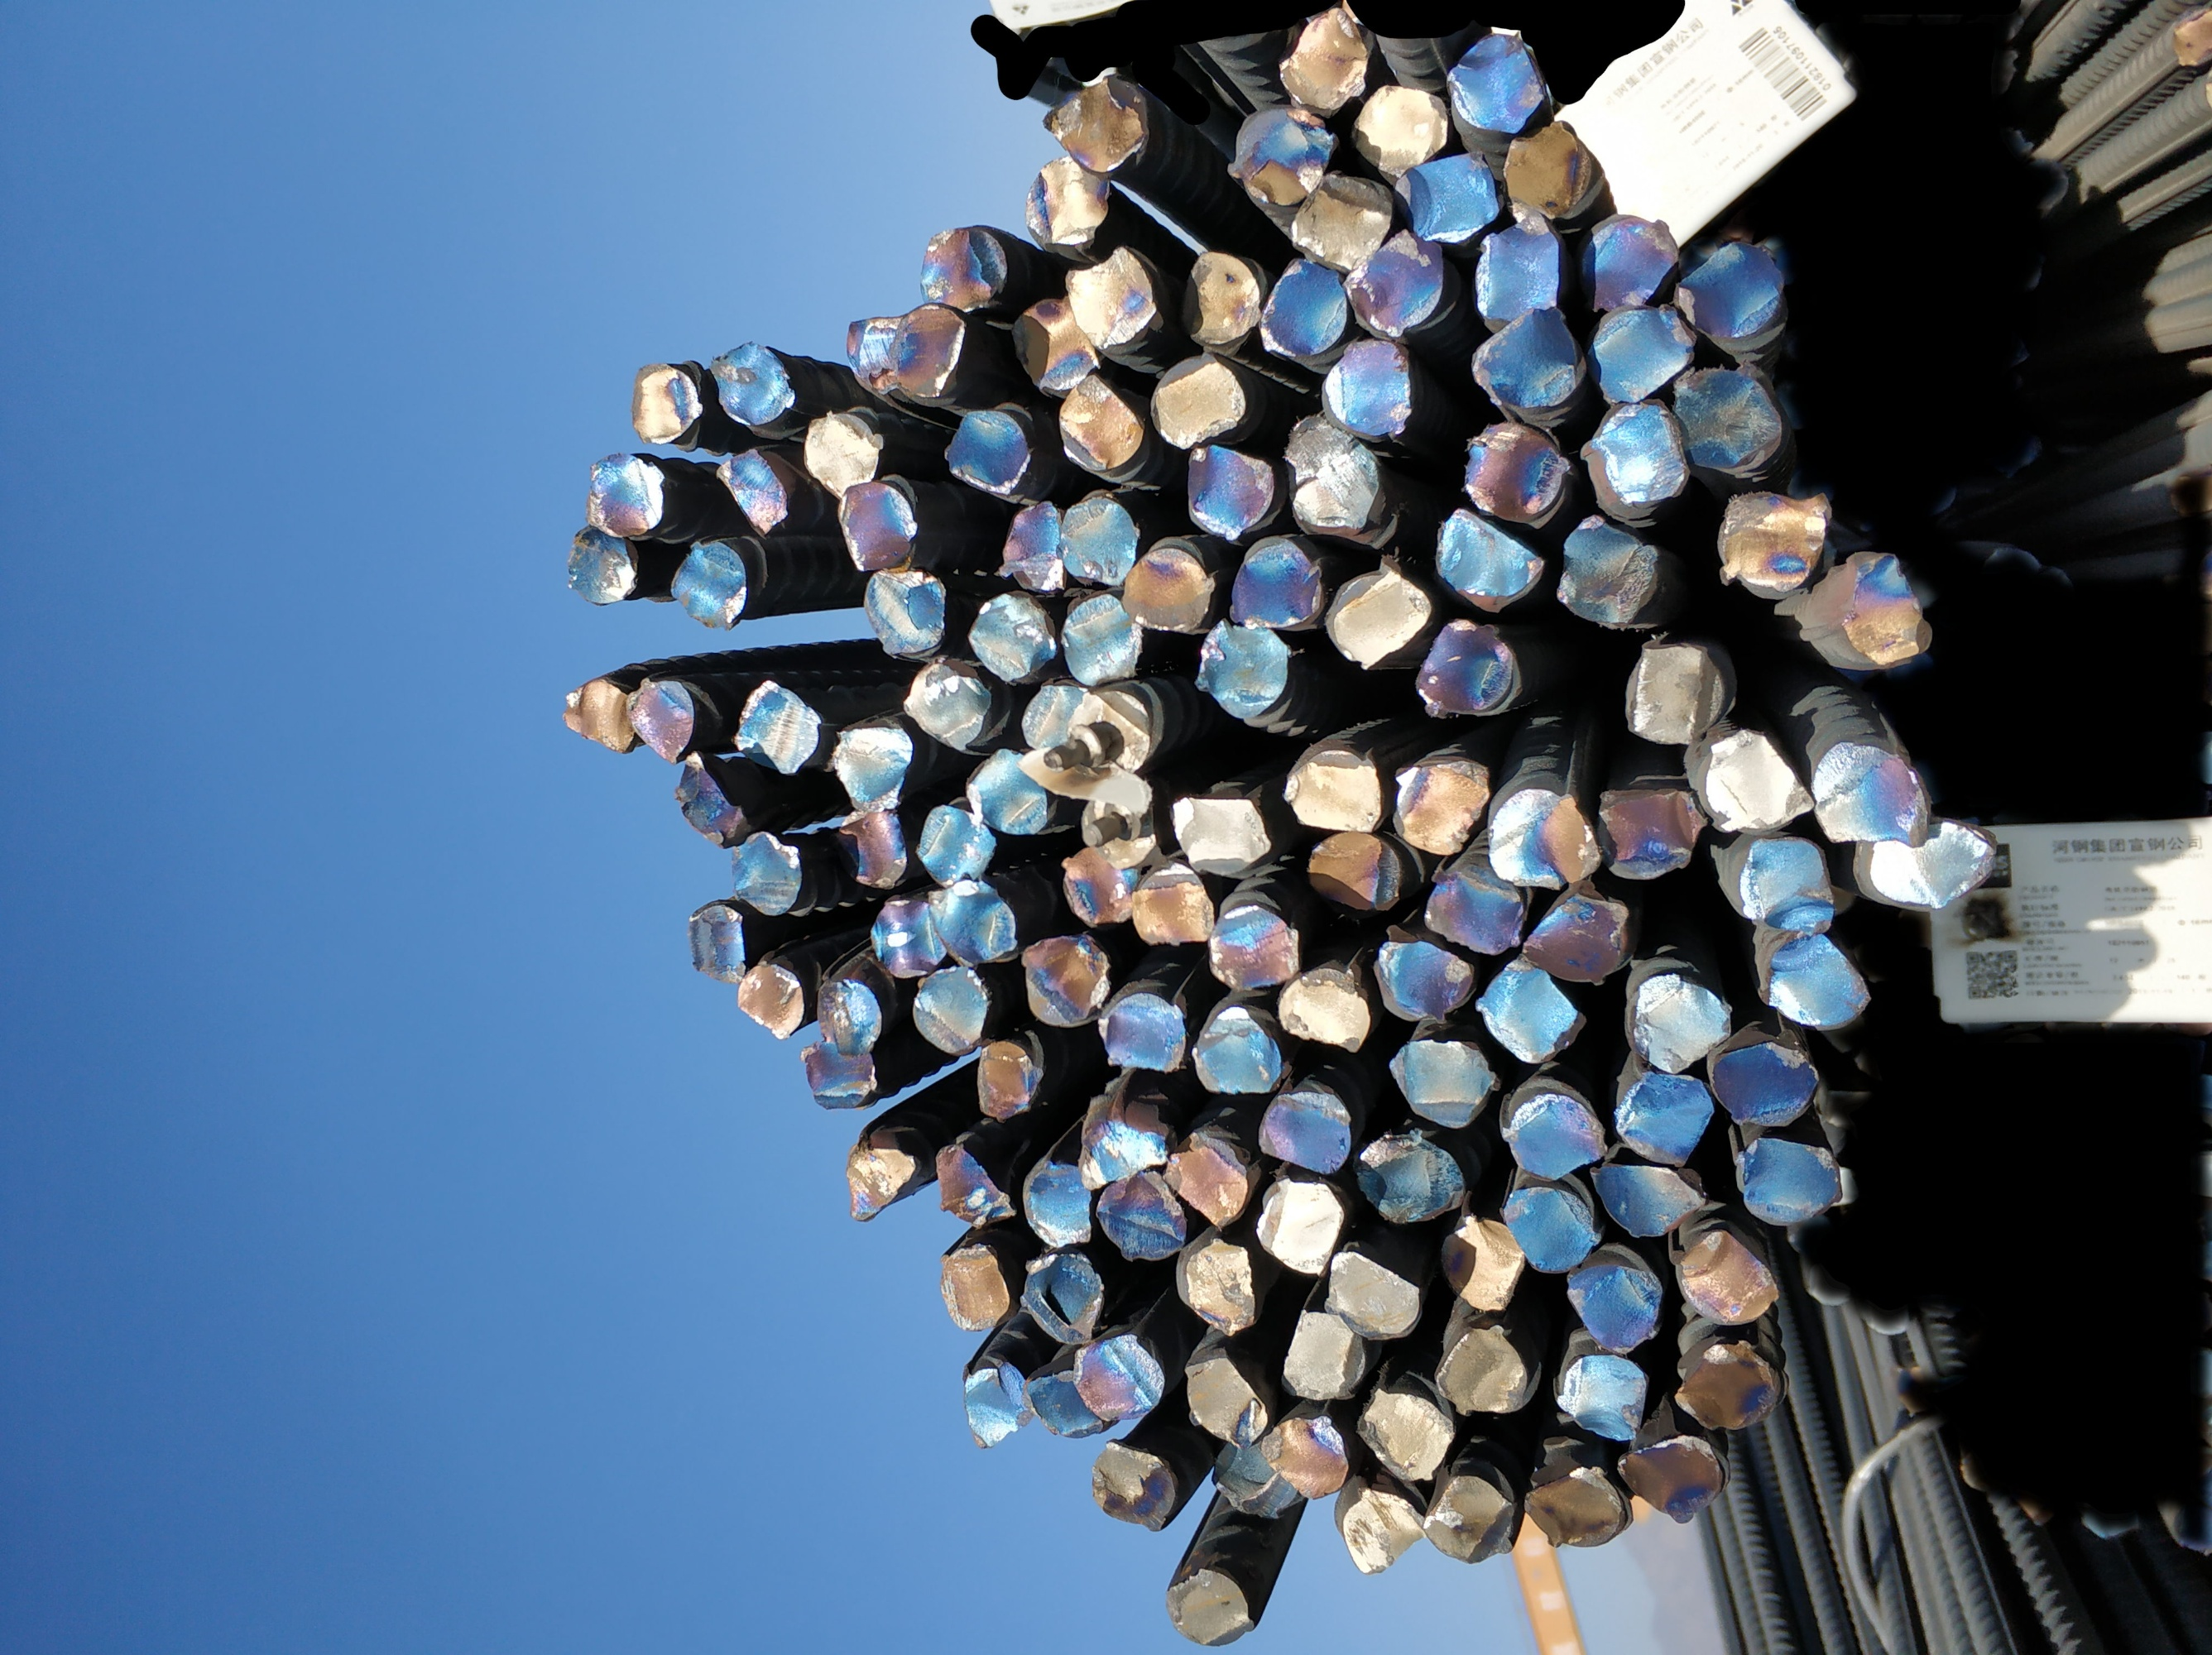rebar: (1319, 551, 1439, 673), (1811, 735, 1934, 854), (1578, 395, 1692, 518), (1665, 362, 1785, 478), (1430, 504, 1550, 615), (1467, 304, 1590, 412), (1482, 786, 1606, 894), (1277, 410, 1383, 535), (1472, 954, 1588, 1067), (1703, 723, 1818, 836), (1715, 487, 1833, 596), (1223, 101, 1343, 209), (841, 299, 966, 402), (1553, 511, 1663, 628), (1866, 817, 2002, 911), (1340, 226, 1447, 342), (1284, 167, 1397, 276), (1039, 71, 1154, 179), (1517, 888, 1640, 987), (1439, 33, 1553, 139), (1672, 240, 1788, 344), (1458, 417, 1574, 522), (1585, 301, 1698, 407), (1496, 118, 1607, 224), (1595, 782, 1712, 883), (1626, 970, 1734, 1078), (1573, 210, 1682, 316), (1348, 1130, 1468, 1226), (1062, 242, 1166, 351), (1414, 615, 1524, 720), (1625, 638, 1729, 748), (1762, 932, 1875, 1033), (1274, 0, 1373, 115), (1385, 1038, 1505, 1132), (1673, 1224, 1781, 1328), (1194, 610, 1293, 723), (1470, 209, 1566, 325), (1708, 1034, 1825, 1130), (1672, 1337, 1783, 1434), (1500, 1088, 1613, 1184), (1616, 1431, 1729, 1526), (1731, 1135, 1847, 1227), (1611, 1071, 1717, 1172), (1345, 82, 1453, 181), (1392, 756, 1494, 859), (1736, 833, 1838, 935), (1397, 146, 1501, 247), (1354, 1386, 1460, 1485), (1319, 334, 1416, 442), (1147, 349, 1249, 450), (726, 673, 825, 777), (1225, 532, 1329, 631), (1838, 549, 1927, 666), (1420, 866, 1529, 958), (1586, 1158, 1710, 1240), (1041, 687, 1154, 775), (1564, 1260, 1666, 1358), (1183, 440, 1277, 546), (1371, 935, 1479, 1027), (1432, 1321, 1533, 1419), (1321, 1250, 1425, 1344), (1418, 1471, 1519, 1566), (1117, 544, 1220, 638), (1255, 1085, 1357, 1179), (1010, 292, 1102, 396), (1255, 1173, 1347, 1278), (1500, 1184, 1606, 1274), (1018, 932, 1116, 1029), (1272, 963, 1373, 1057), (1055, 370, 1147, 473), (1258, 256, 1348, 360), (1281, 744, 1385, 834), (1166, 793, 1274, 880), (1519, 1464, 1626, 1551), (964, 586, 1060, 683), (1437, 1213, 1529, 1314), (1093, 1168, 1189, 1264), (857, 563, 950, 661), (1189, 1003, 1286, 1097), (1553, 1351, 1651, 1445), (1058, 591, 1149, 692), (669, 749, 758, 852), (1018, 155, 1114, 249), (1275, 1306, 1369, 1401), (900, 655, 992, 753), (1204, 902, 1303, 993), (1175, 245, 1263, 346), (1076, 767, 1159, 873), (940, 405, 1036, 497), (1017, 1252, 1109, 1347), (1088, 1438, 1180, 1533), (924, 878, 1022, 968), (1069, 1332, 1166, 1422), (832, 476, 921, 575), (1209, 1436, 1310, 1523), (1303, 827, 1406, 913), (916, 221, 1010, 313), (704, 339, 801, 428), (1338, 1483, 1428, 1577), (1183, 1354, 1272, 1450), (825, 723, 917, 814), (1095, 989, 1189, 1078), (1056, 494, 1143, 589), (1256, 1413, 1352, 1500), (961, 746, 1050, 838), (799, 409, 886, 502), (1161, 1565, 1258, 1648), (1183, 1234, 1262, 1337), (909, 963, 994, 1057), (667, 537, 751, 633), (1128, 861, 1216, 949), (933, 1140, 1020, 1231), (1159, 1144, 1251, 1229), (709, 445, 791, 541), (580, 449, 666, 537), (992, 497, 1067, 598), (1056, 843, 1142, 930), (914, 801, 997, 890), (620, 673, 699, 767), (935, 1241, 1011, 1333), (867, 895, 950, 979), (961, 1359, 1037, 1450), (627, 360, 705, 447), (832, 805, 911, 892), (1079, 1114, 1168, 1191), (728, 827, 803, 918), (1022, 1158, 1095, 1250), (1022, 1366, 1110, 1441), (841, 1144, 923, 1224), (563, 522, 641, 605), (558, 675, 638, 754), (798, 1036, 881, 1113), (975, 1038, 1046, 1125), (683, 902, 756, 986), (733, 963, 806, 1043), (1018, 673, 1088, 754), (813, 975, 883, 1057)
